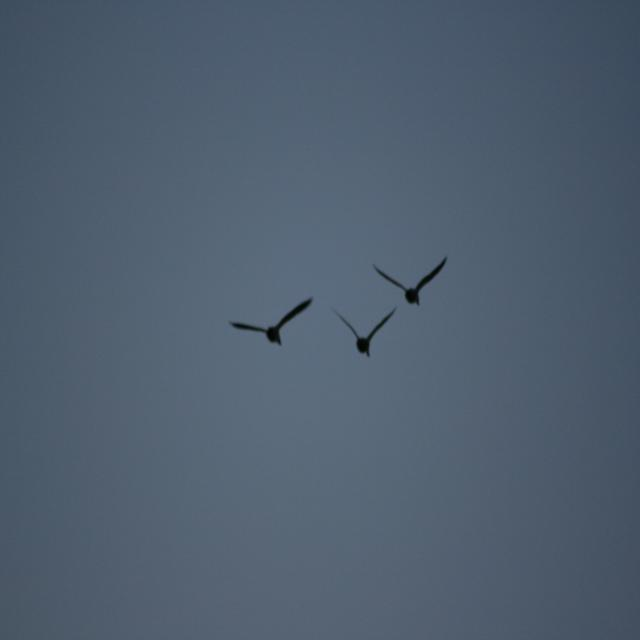bird: (227, 292, 320, 345), (372, 256, 449, 306), (330, 304, 397, 357)
